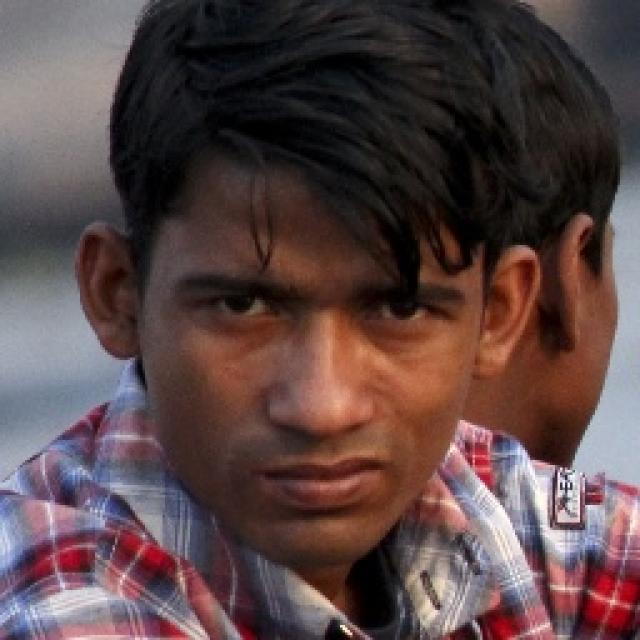earlobe: (72, 220, 140, 360), (471, 243, 539, 383)
